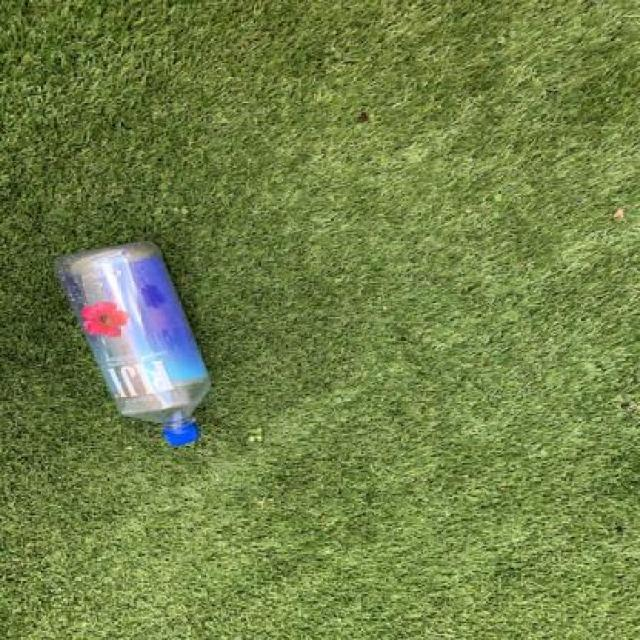trash: (52, 239, 218, 452)
